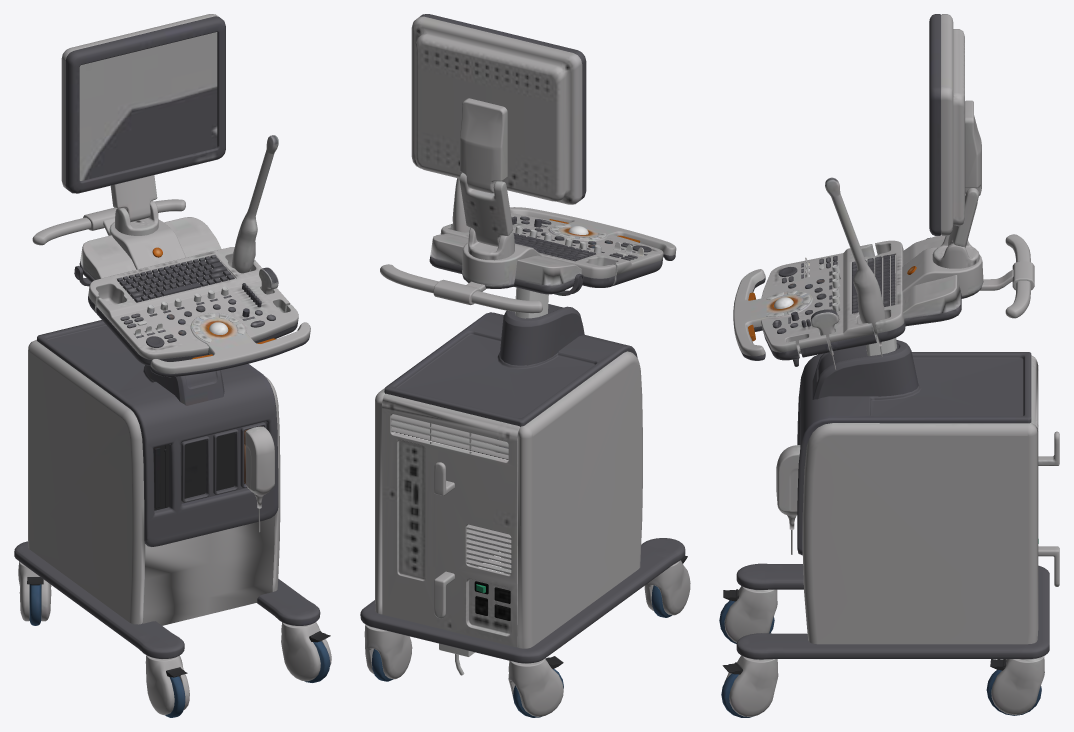
Rendered from ultra-sound-machine.glb.
3 views of the same model, side by side, from view 1: azimuth 30°, elevation 25°; view 2: azimuth 150°, elevation 25°; view 3: azimuth 270°, elevation 25° (orthographic). The views are drawn at different scales.
Parts seen in each view (by area): view 1: UltraSoundMachine; view 2: UltraSoundMachine; view 3: UltraSoundMachine.
Part boxes in pixels (x1,y1,x2,y2): UltraSoundMachine: (14,14,331,717); UltraSoundMachine: (360,14,690,717); UltraSoundMachine: (719,14,1059,717).
Bounding box in the file's own units: 0.3073 × 0.9788 × 0.4798.
1 material, 1 textured.
